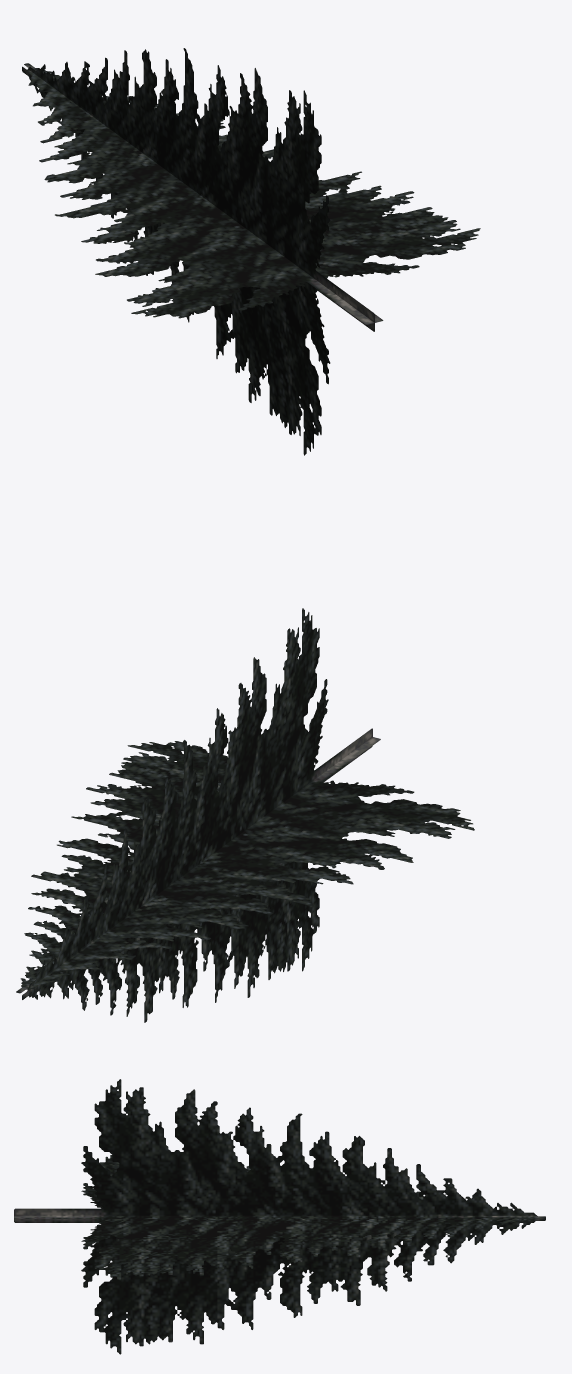
Rendered from SM_EC_Tree_Cross_03.fbx.
3 renders of one model, top to bottom at view 1: azimuth 30°, elevation 25°; view 2: azimuth 150°, elevation 25°; view 3: azimuth 270°, elevation 25°, orthographic. The views are drawn at different scales.
Visible parts, largest first — view 1: SM_EC_Tree_Cross_03; view 2: SM_EC_Tree_Cross_03; view 3: SM_EC_Tree_Cross_03.
Boxes of the visible parts, x1=… form: SM_EC_Tree_Cross_03: x1=22, y1=48, x2=480, y2=455; SM_EC_Tree_Cross_03: x1=16, y1=608, x2=474, y2=1022; SM_EC_Tree_Cross_03: x1=14, y1=1079, x2=545, y2=1354.
Size of the model in its own units: 2.24 by 3.8 by 2.24.
